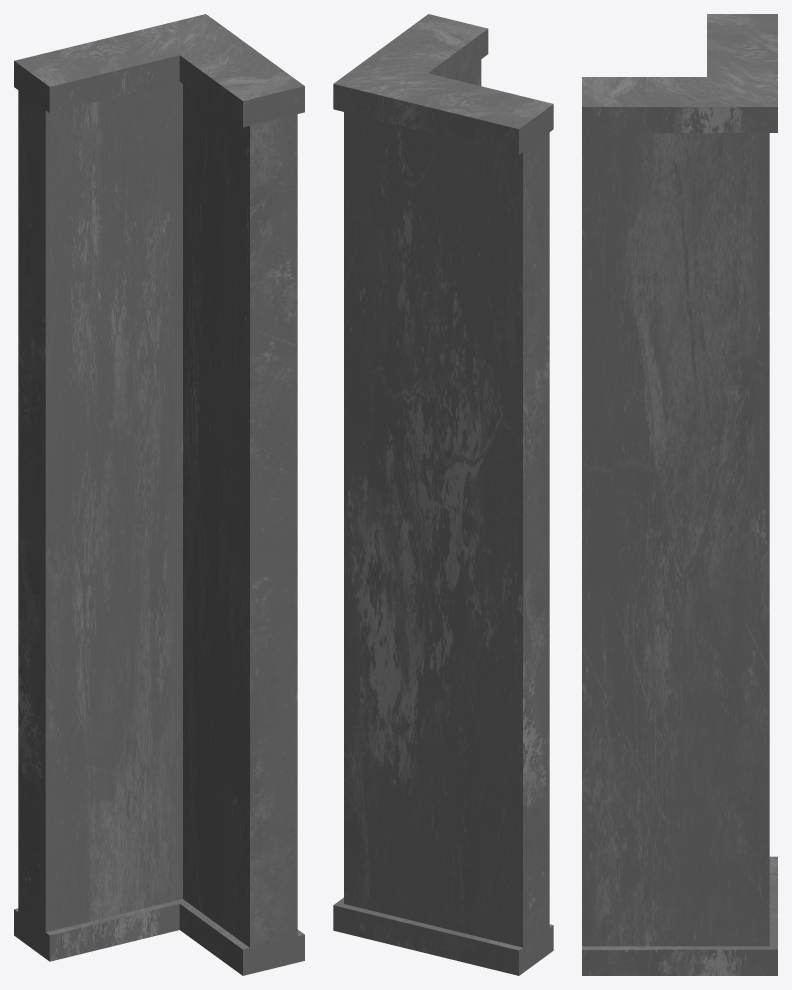
File: WALL BASEMENT 5.fbx
3 renders of one model, left to right at view 1: azimuth 30°, elevation 25°; view 2: azimuth 150°, elevation 25°; view 3: azimuth 270°, elevation 25°, orthographic. The views are drawn at different scales.
Visible parts, largest first — view 1: WALL BASEMENT 5; view 2: WALL BASEMENT 5; view 3: WALL BASEMENT 5.
Part boxes in pixels (bbox=[...]): WALL BASEMENT 5: bbox=[14, 14, 304, 975]; WALL BASEMENT 5: bbox=[333, 14, 553, 975]; WALL BASEMENT 5: bbox=[582, 14, 777, 975].
Size of the model in its own units: 0.6019 by 2.62 by 0.5347.
